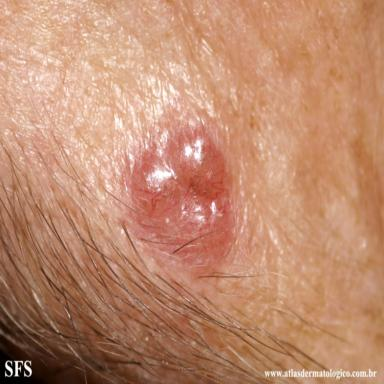basal-cell-carcinoma: (126, 119, 235, 273)
